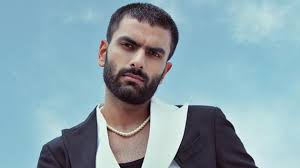b.y: (115, 69, 151, 104)
